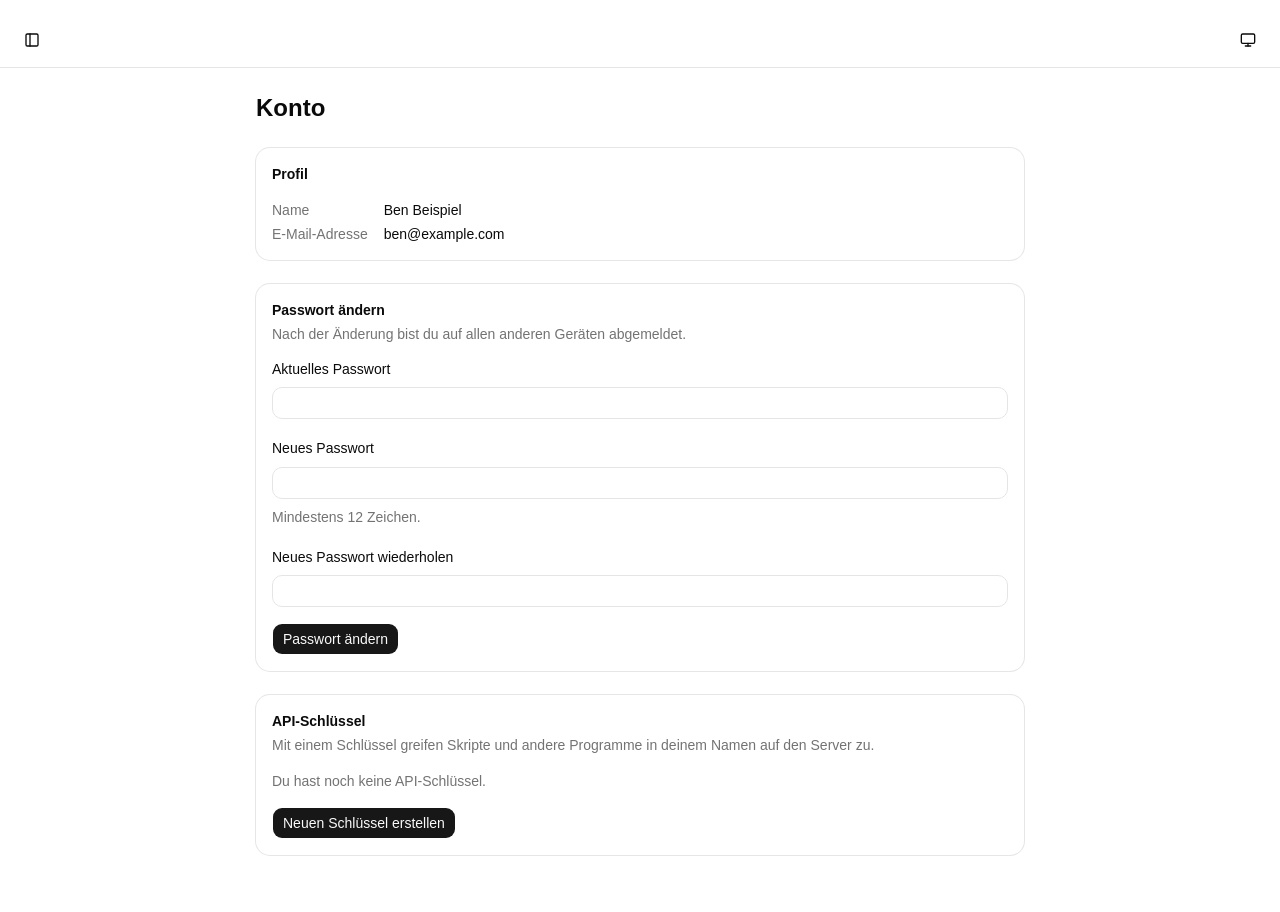
Test case: AccountPage: change password › does not send anything when the new password is too short
Check: the heading "Konto" is shown, box [256,94,325,121]
Type "old passphrase 1234" into the password field labelled "Aktuelles Passwort".
click(640, 403); type("old passphrase 1234")  # box [272,387,1008,419]
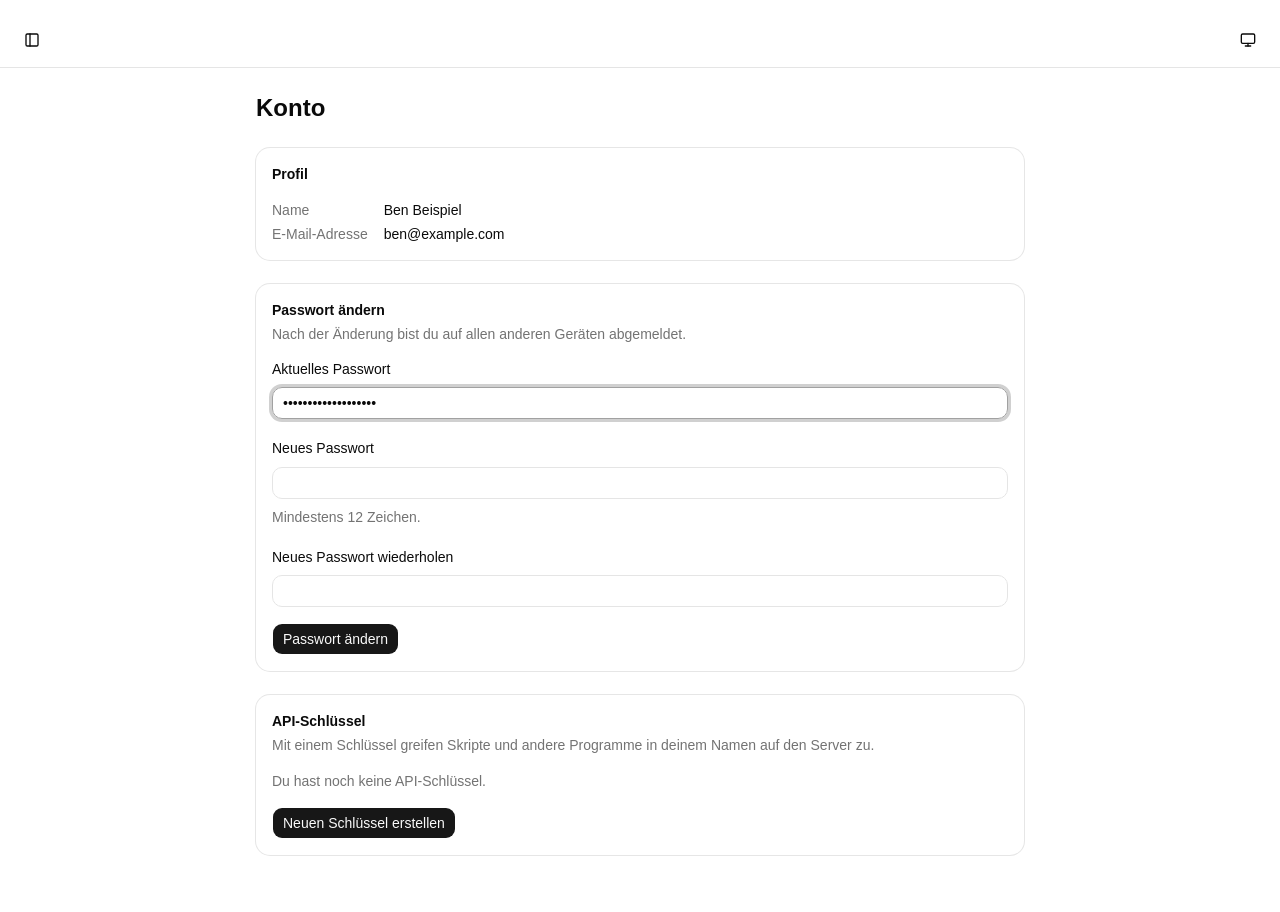
Type "short" into the password field labelled "Neues Passwort".
click(640, 482); type("short")  # box [272,466,1008,498]
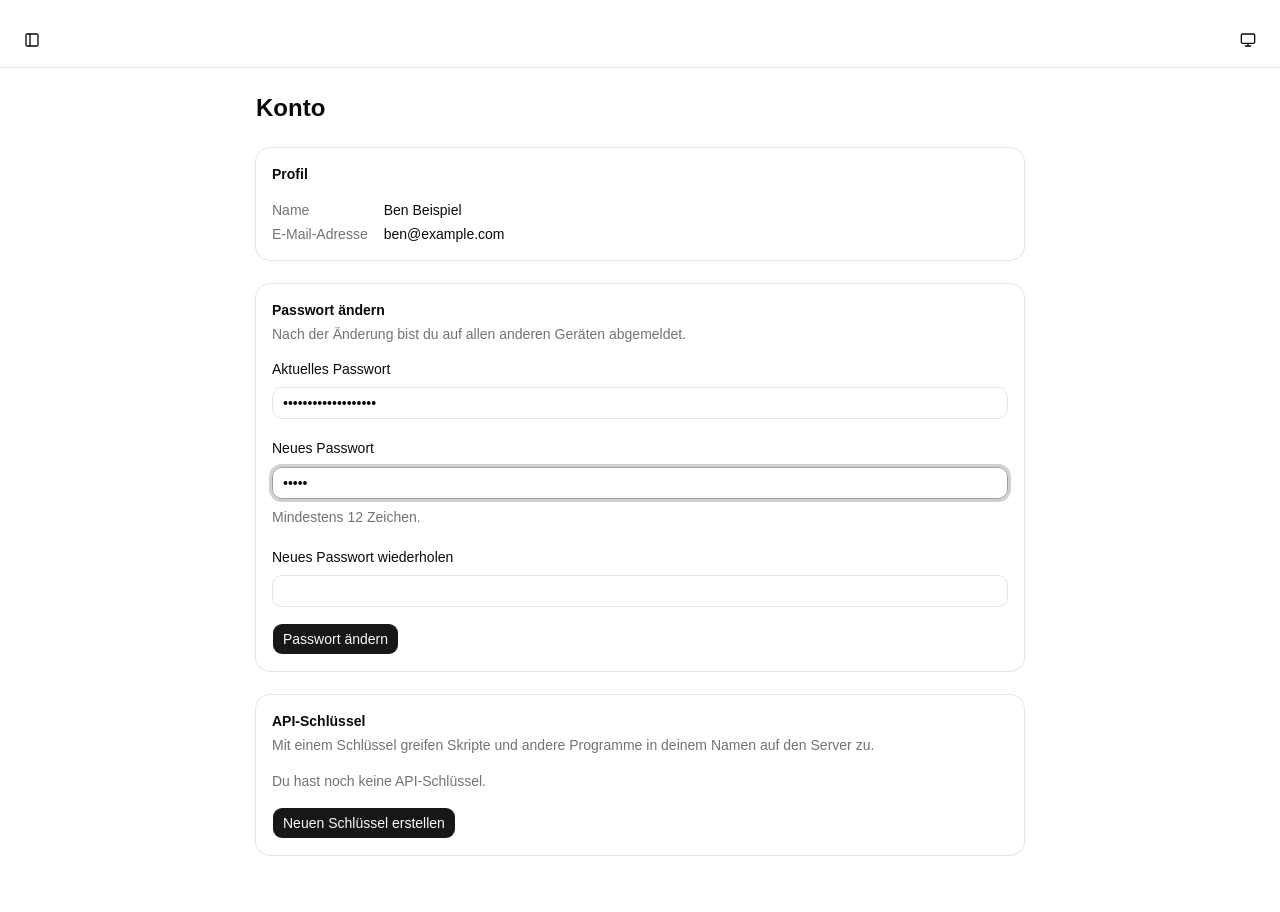
Type "short" into the password field labelled "Neues Passwort wiederholen".
click(640, 591); type("short")  # box [272,575,1008,607]
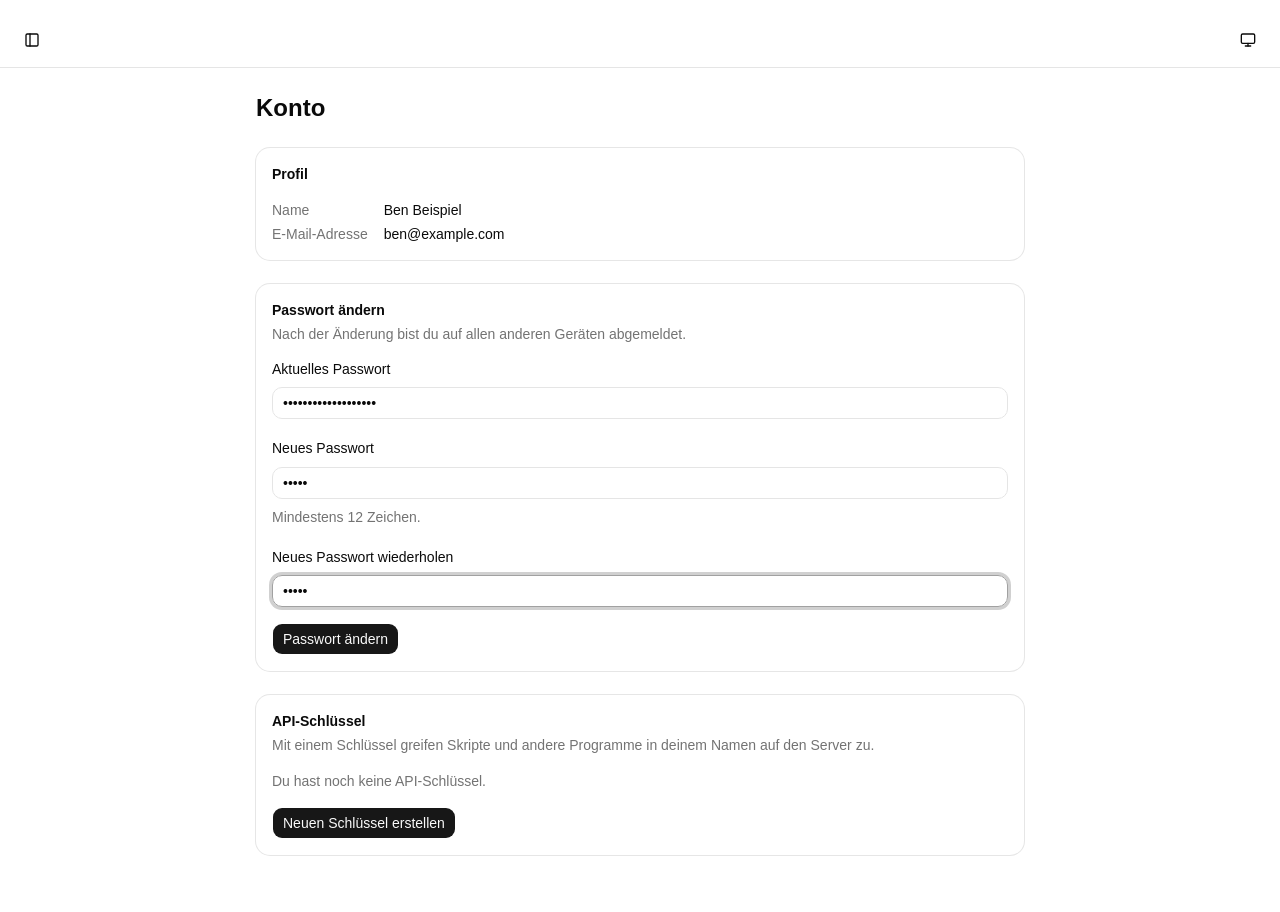
Click the button "Passwort ändern".
click(336, 639)  # box [272,623,399,655]
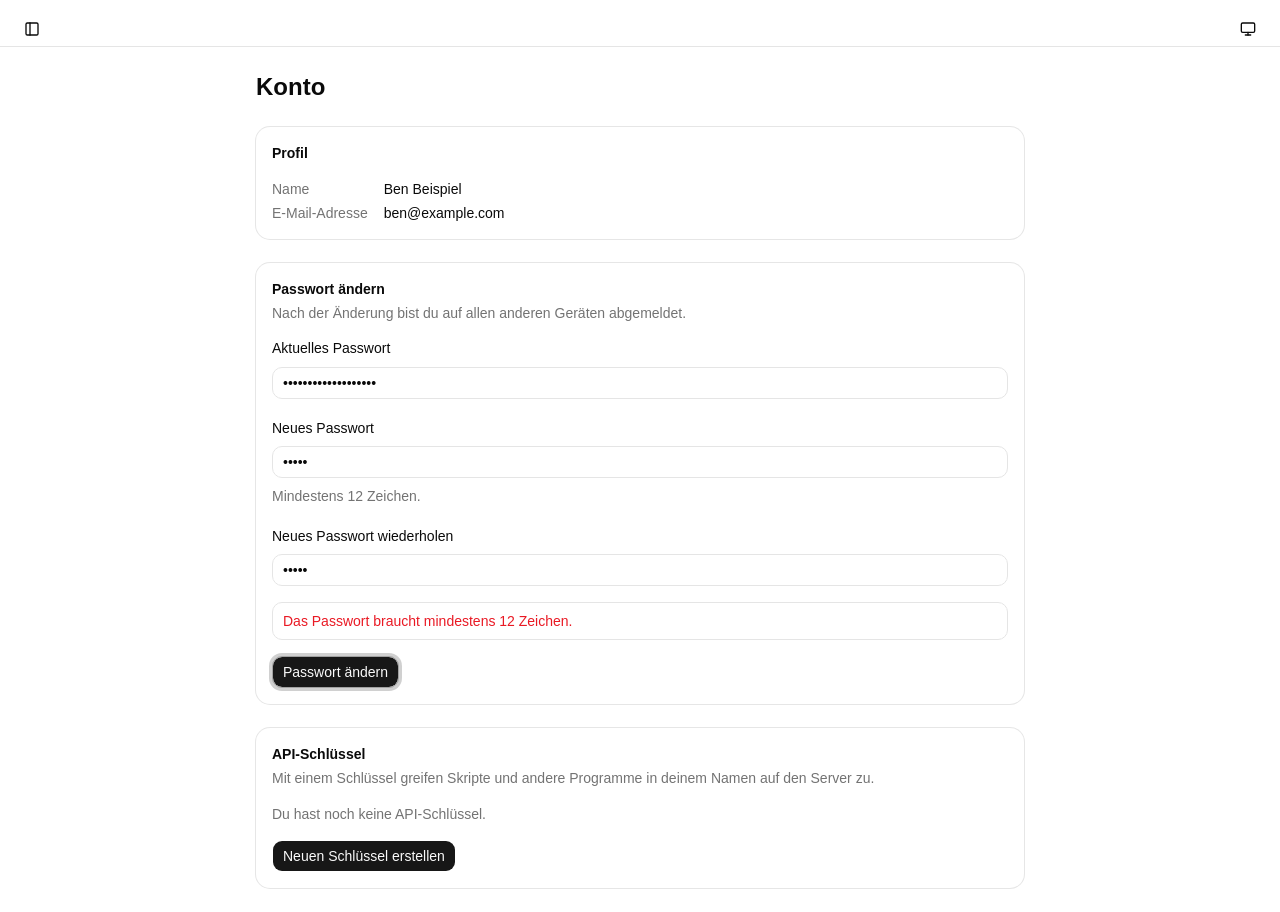
Check: the text "Das Passwort braucht mindestens 12 Zeichen." is shown, box [283,613,572,629]
